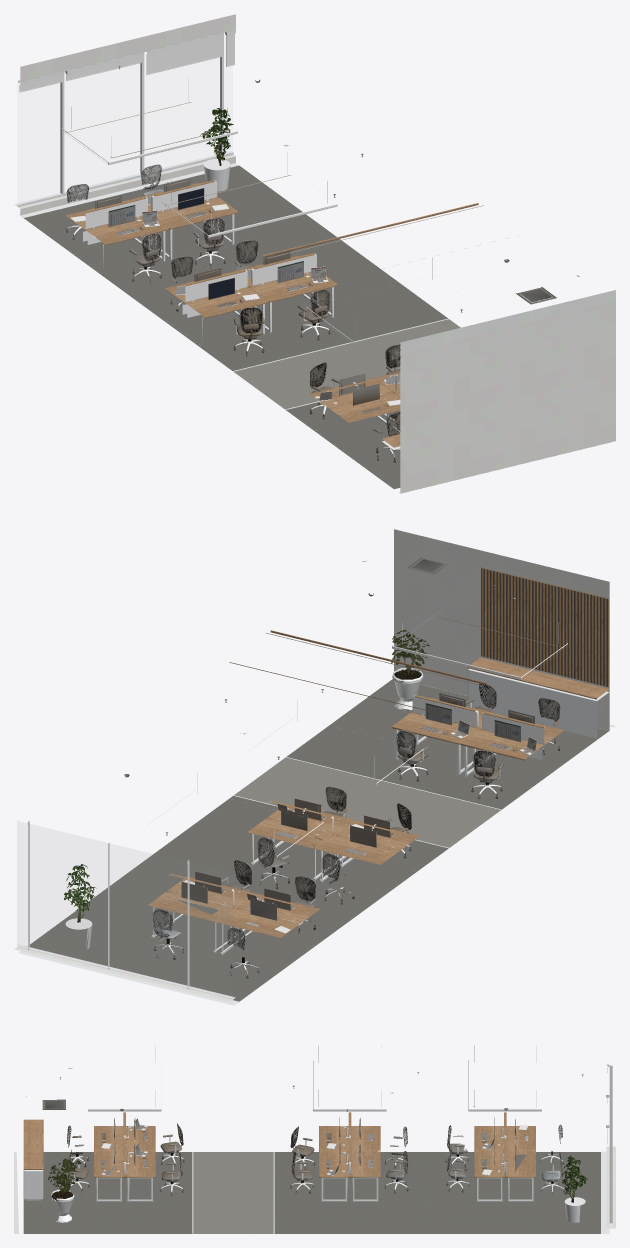
Rendered from z-open_c-lite.full.452c1a79.glb.
The picture shows the model from 3 angles, top to bottom: view 1: azimuth 30°, elevation 25°; view 2: azimuth 150°, elevation 25°; view 3: azimuth 270°, elevation 25°; orthographic projection. The views are drawn at different scales.
Visible parts, largest first — view 1: open_c_carpet, open_c_plaster, open_c_satin, open_c_fx, open_c_oak, open_c_emit, open_c_metal_lit, open_c_veg_atlas; view 2: open_c_carpet, open_c_plaster, open_c_oak, open_c_satin, open_c_fx, open_c_proxy_slat, open_c_veg_atlas, open_c_emit, open_c_metal_lit; view 3: open_c_carpet, open_c_oak, open_c_satin, open_c_fx, open_c_metal_lit, open_c_veg_atlas, open_c_plaster.
Boxes of the visible parts, x1=… form: open_c_carpet: x1=24, y1=165, x2=460, y2=488; open_c_plaster: x1=14, y1=14, x2=615, y2=493; open_c_satin: x1=16, y1=30, x2=579, y2=449; open_c_fx: x1=66, y1=66, x2=556, y2=462; open_c_oak: x1=65, y1=180, x2=478, y2=447; open_c_emit: x1=65, y1=102, x2=483, y2=341; open_c_metal_lit: x1=23, y1=145, x2=400, y2=456; open_c_veg_atlas: x1=200, y1=108, x2=233, y2=165; open_c_carpet: x1=27, y1=679, x2=609, y2=1002; open_c_plaster: x1=14, y1=529, x2=615, y2=1001; open_c_oak: x1=148, y1=630, x2=609, y2=937; open_c_satin: x1=16, y1=560, x2=608, y2=1005; open_c_fx: x1=124, y1=557, x2=560, y2=978; open_c_proxy_slat: x1=481, y1=568, x2=608, y2=687; open_c_veg_atlas: x1=64, y1=630, x2=429, y2=922; open_c_emit: x1=266, y1=566, x2=607, y2=857; open_c_metal_lit: x1=156, y1=696, x2=558, y2=1001; open_c_carpet: x1=23, y1=1152, x2=600, y2=1233; open_c_oak: x1=23, y1=1112, x2=535, y2=1177; open_c_satin: x1=23, y1=1045, x2=612, y2=1233; open_c_fx: x1=42, y1=1072, x2=583, y2=1195; open_c_metal_lit: x1=67, y1=1092, x2=601, y2=1233; open_c_veg_atlas: x1=48, y1=1155, x2=587, y2=1202; open_c_plaster: x1=14, y1=1146, x2=615, y2=1233.
Bounding box in the file's own units: 5 × 3.35 × 15.5.
10 materials, 7 textured.
